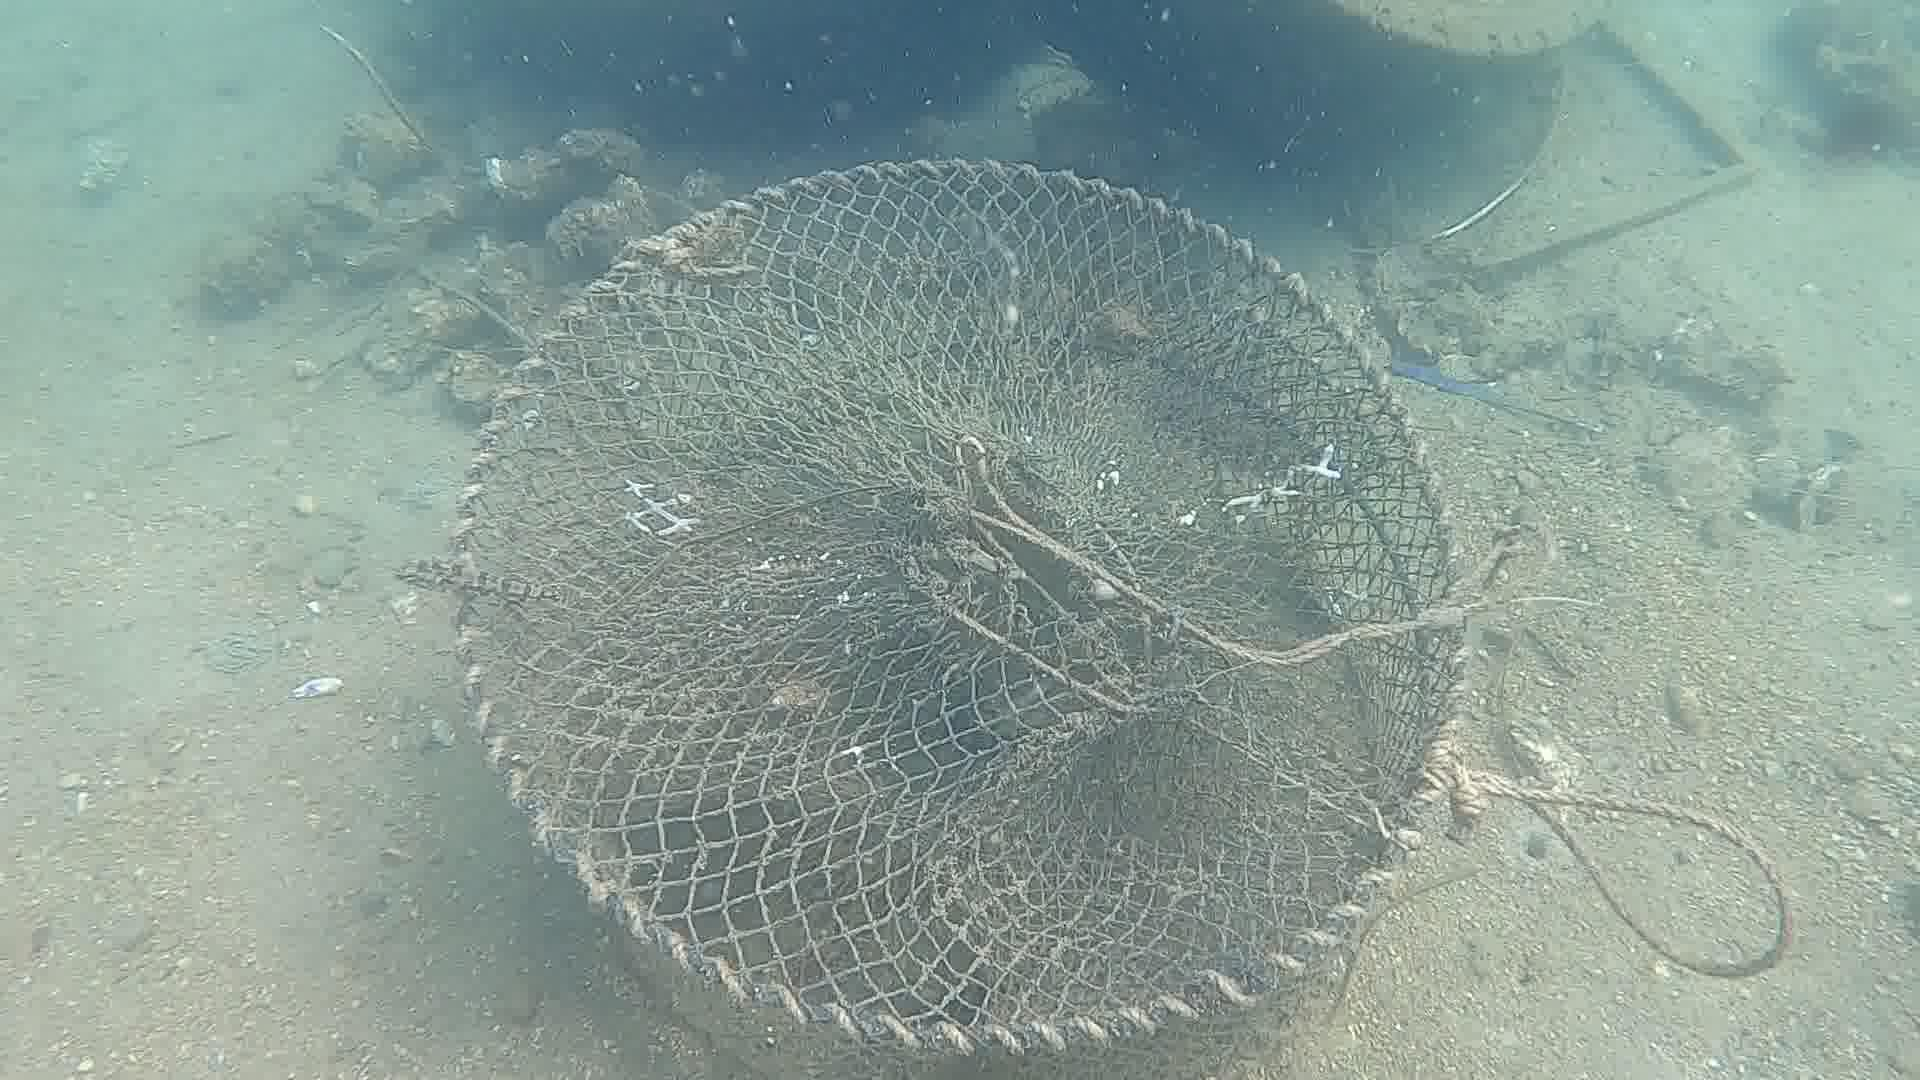bundle of ropes: (1455, 756, 1818, 1011)
circular fish trap: (438, 145, 1482, 1080)
